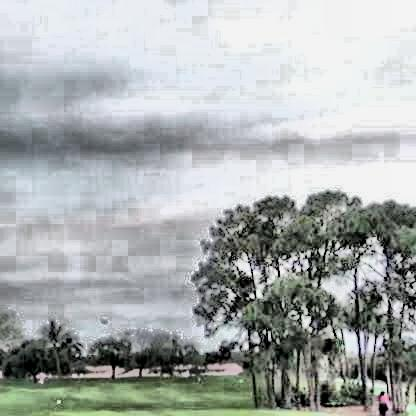golfball: (99, 315, 108, 323)
